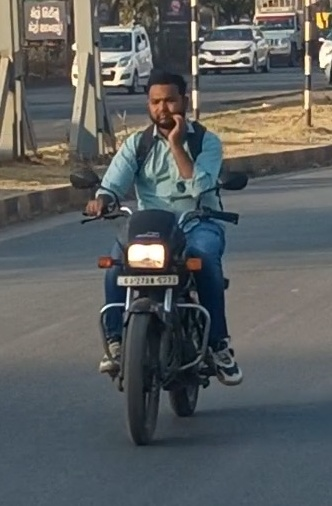BikeWithRider: (65, 67, 252, 450)
NoHelmet: (145, 69, 190, 132)
